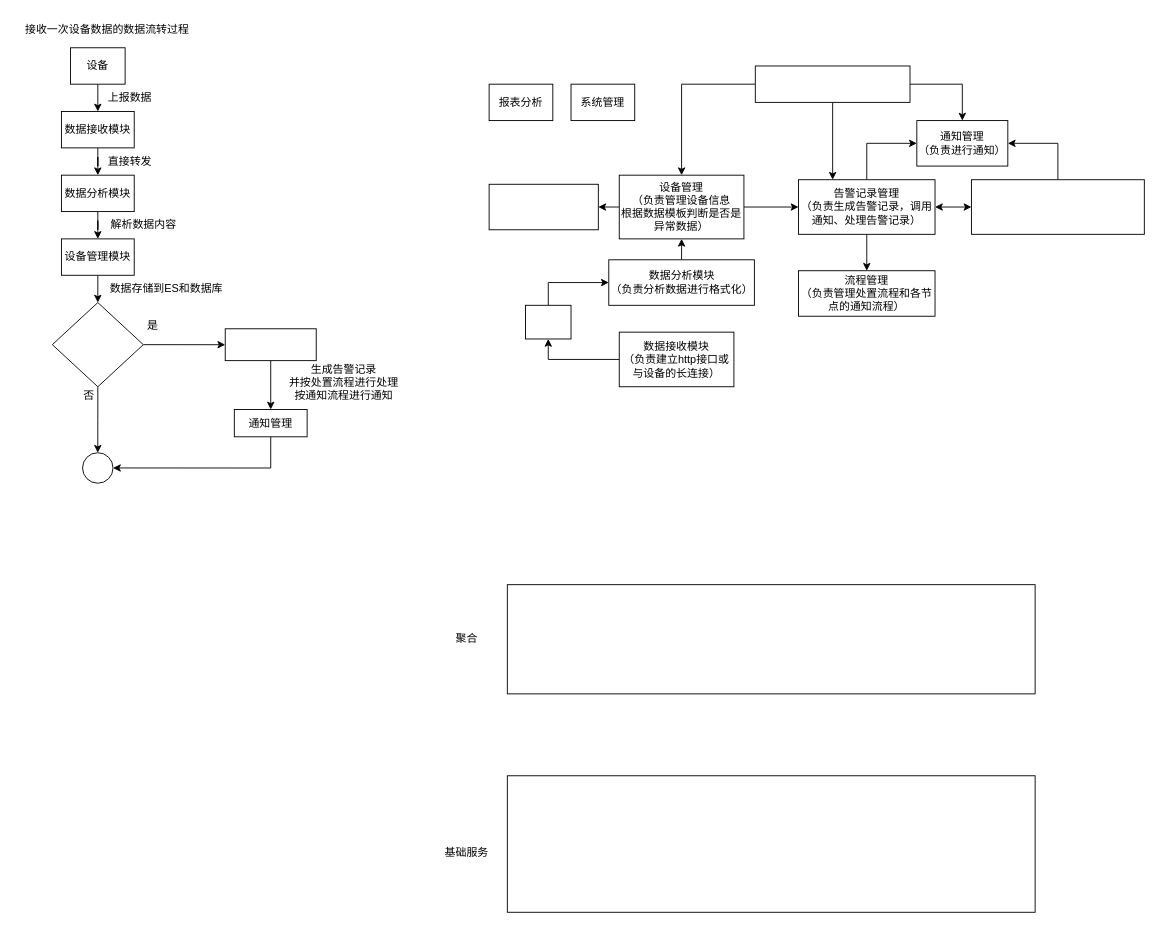
Image size: 1160x928. Some labels were removed from this diagram. The centre of each missing label's shape, as x and y in pixels:
ES （负责设备历史数据的存储）: the point at 543,206
MQ: the point at 548,321
加载告警规则判断 是否是异常数据: the point at 97,344
告警记录管理模块: the point at 270,344
巡检管理 （负责巡检计划、任务的管理）: the point at 832,83
工单管理（考虑合并到巡检管理） （负责生成工单、管理工单）: the point at 1057,206
